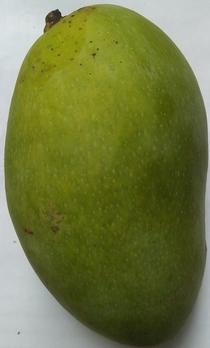Unripe: (1, 1, 210, 348)
